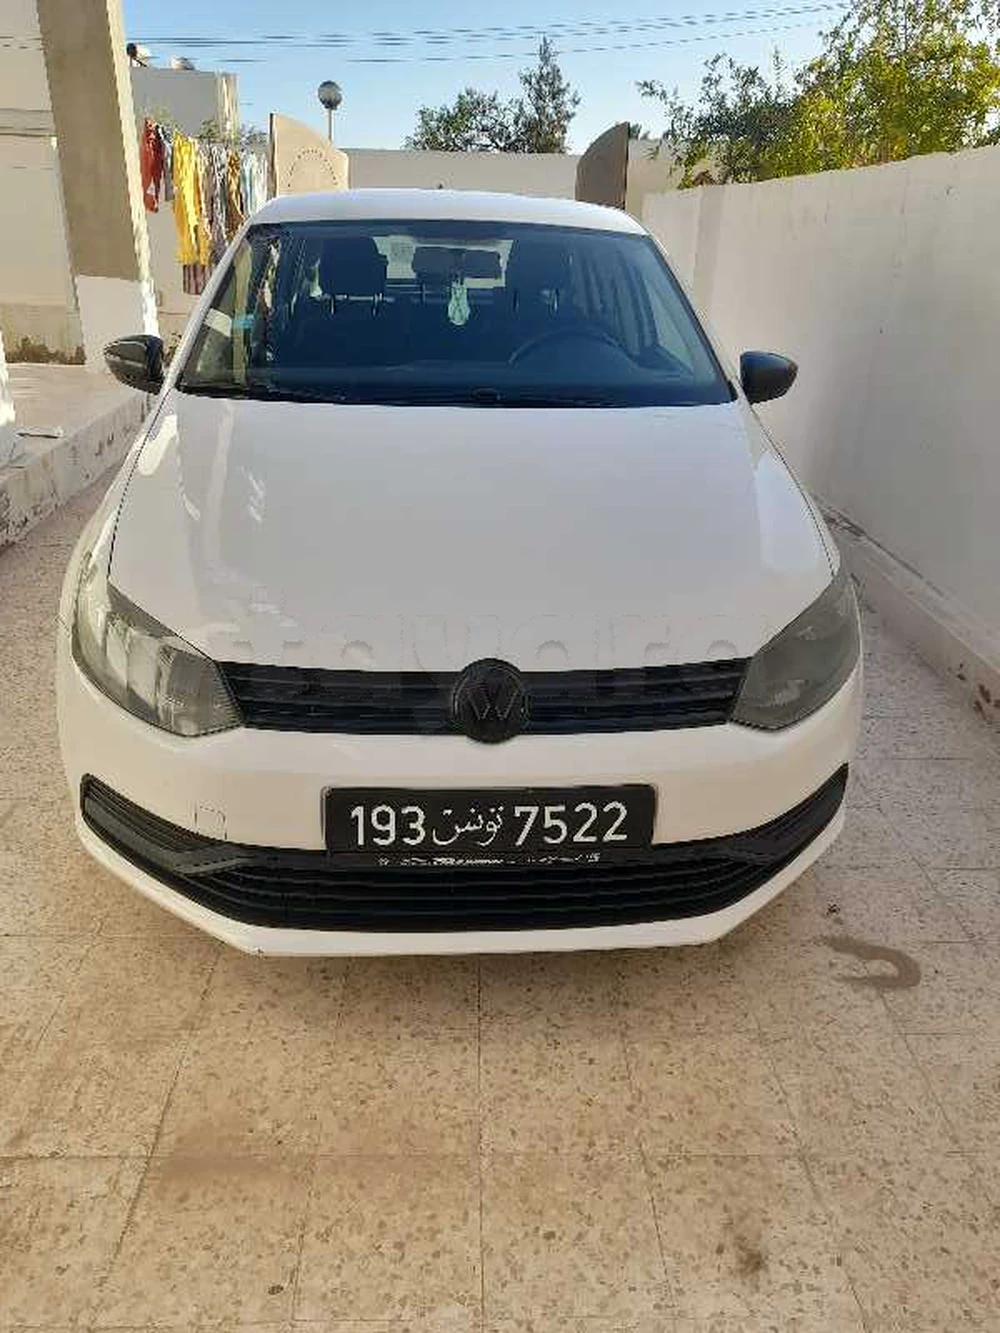volkswagen: (53, 187, 875, 976)
